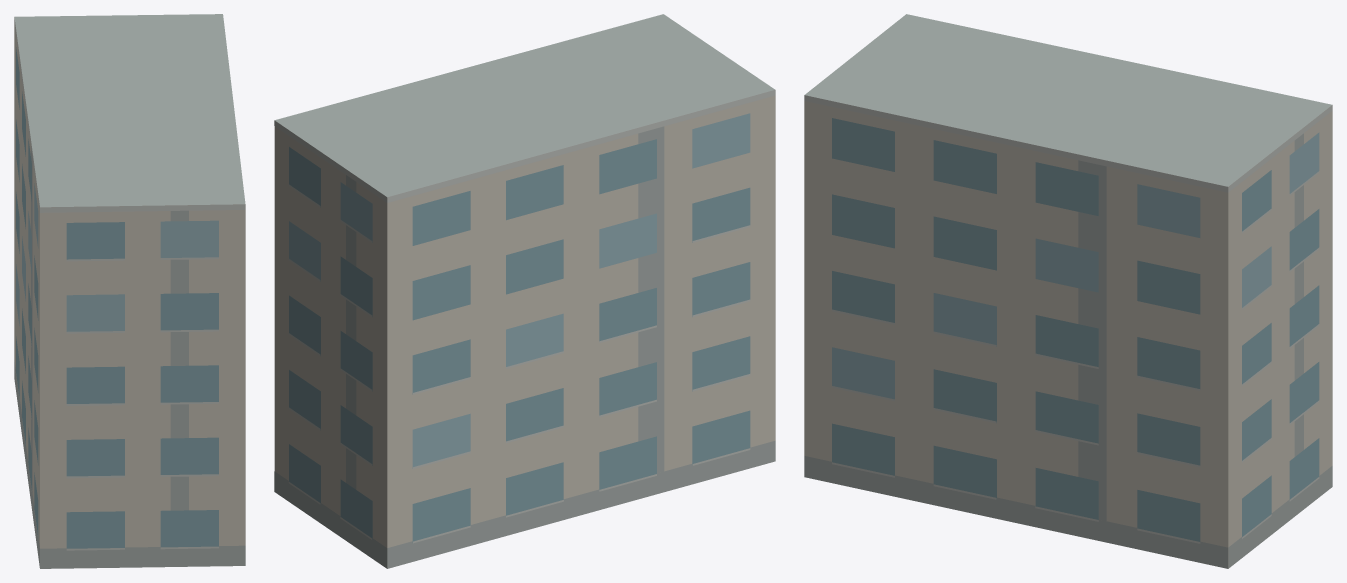
File: survey-upis-32779185.glb
3 views of the same model, side by side, from view 1: azimuth 30°, elevation 25°; view 2: azimuth 150°, elevation 25°; view 3: azimuth 270°, elevation 25° (orthographic). The views are drawn at different scales.
Visible parts, largest first — view 1: survey-upis-32779185.tmp; view 2: survey-upis-32779185.tmp; view 3: survey-upis-32779185.tmp.
Part boxes in pixels (x1,y1,x2,y2): survey-upis-32779185.tmp: [14, 14, 245, 568]; survey-upis-32779185.tmp: [274, 14, 775, 568]; survey-upis-32779185.tmp: [804, 14, 1332, 568].
Bounding box in the file's own units: 15.34 × 15.8 × 19.81.
